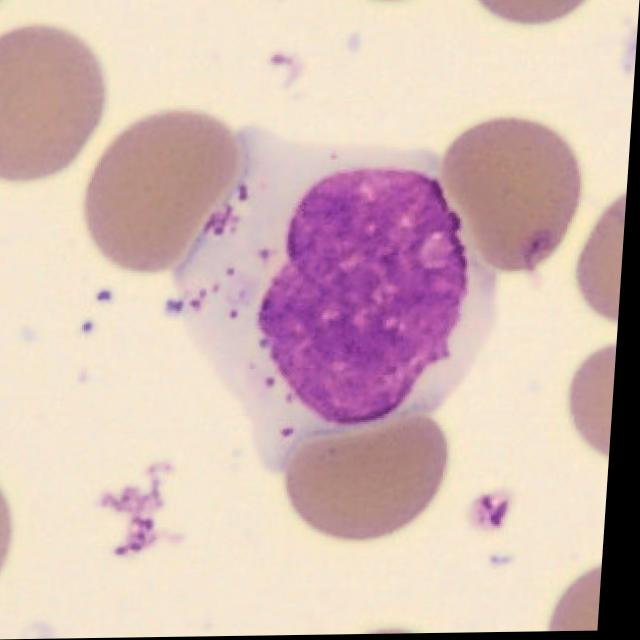Linfocito atipico: (170, 129, 501, 473)
